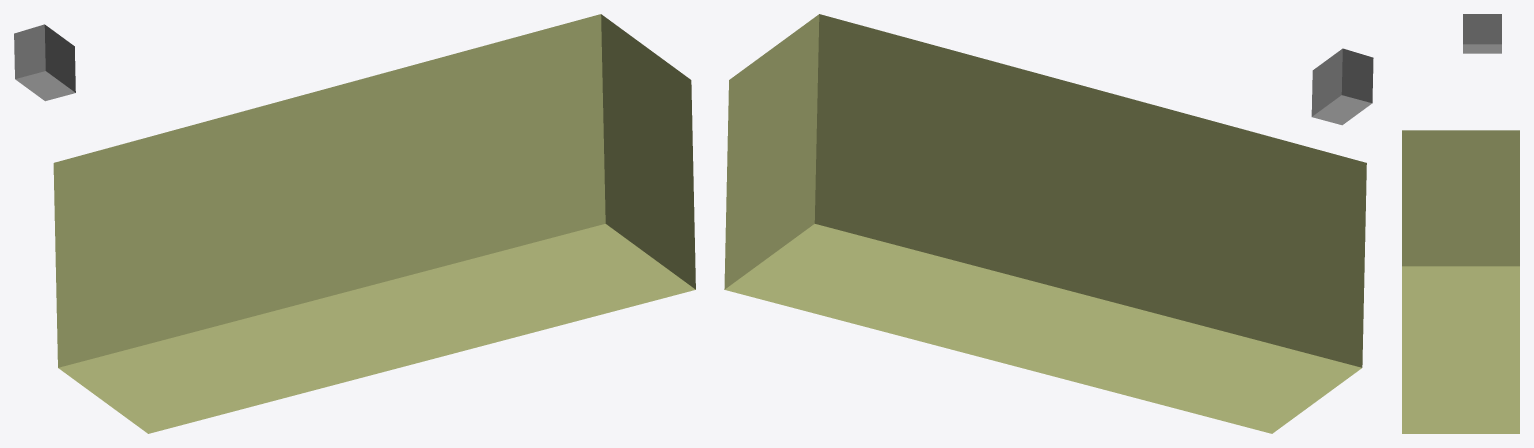
The picture shows the model from 3 angles, left to right: view 1: azimuth 30°, elevation 25°; view 2: azimuth 150°, elevation 25°; view 3: azimuth 270°, elevation 25°; orthographic projection. The views are drawn at different scales.
Parts seen in each view (by area): view 1: 0_1_2_0_3_1_2_1_1; view 2: 0_1_2_0_3_1_2_1_1; view 3: 0_1_2_0_3_1_2_1_1.
Boxes of the visible parts, x1,y1,x2,y2 form: 0_1_2_0_3_1_2_1_1: (14,14,695,433); 0_1_2_0_3_1_2_1_1: (724,14,1373,433); 0_1_2_0_3_1_2_1_1: (1402,14,1519,433).
Bounding box in the file's own units: 34.84 × 19.81 × 9.
